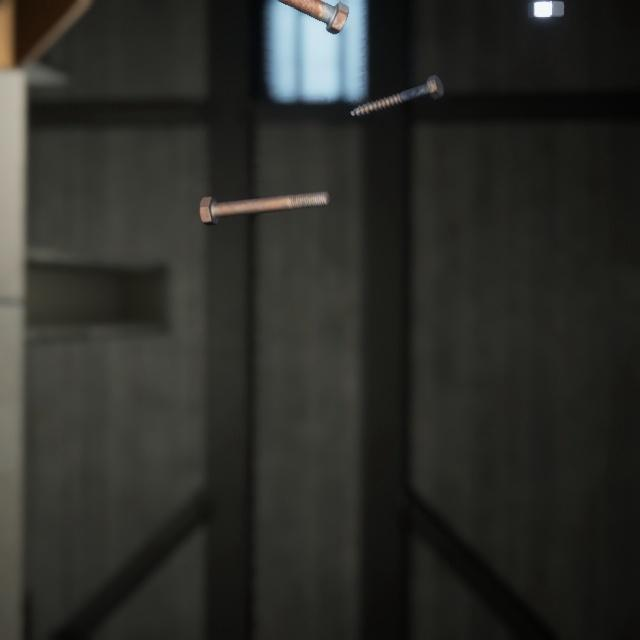bolt: (194, 171, 334, 214), (346, 59, 448, 109), (285, 0, 353, 32)
